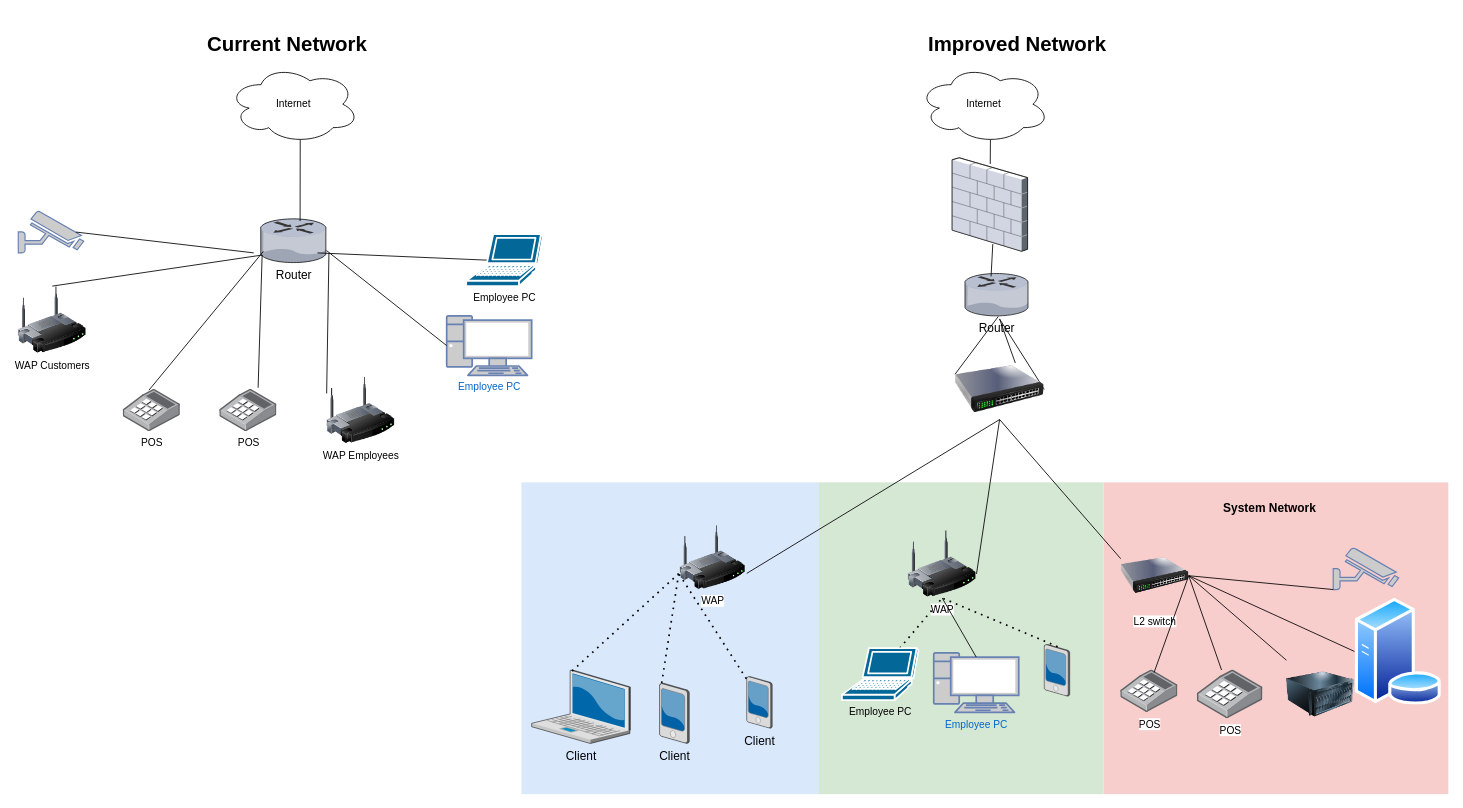
The diagram is 1463 pixels wide and 808 high, and some of its shapes have lost their labels. Here are the shapes that lost their labels. From the top down, the box of each, then its label:
(952, 157, 1027, 251): Firewall
(955, 359, 1044, 419): L3 Switch
(521, 482, 819, 794): Customer Network
(819, 482, 1103, 794): Employee Network
(1354, 598, 1442, 704): Data Base Server
(1044, 644, 1069, 696): Emplyee
(1286, 660, 1354, 728): POS Server
